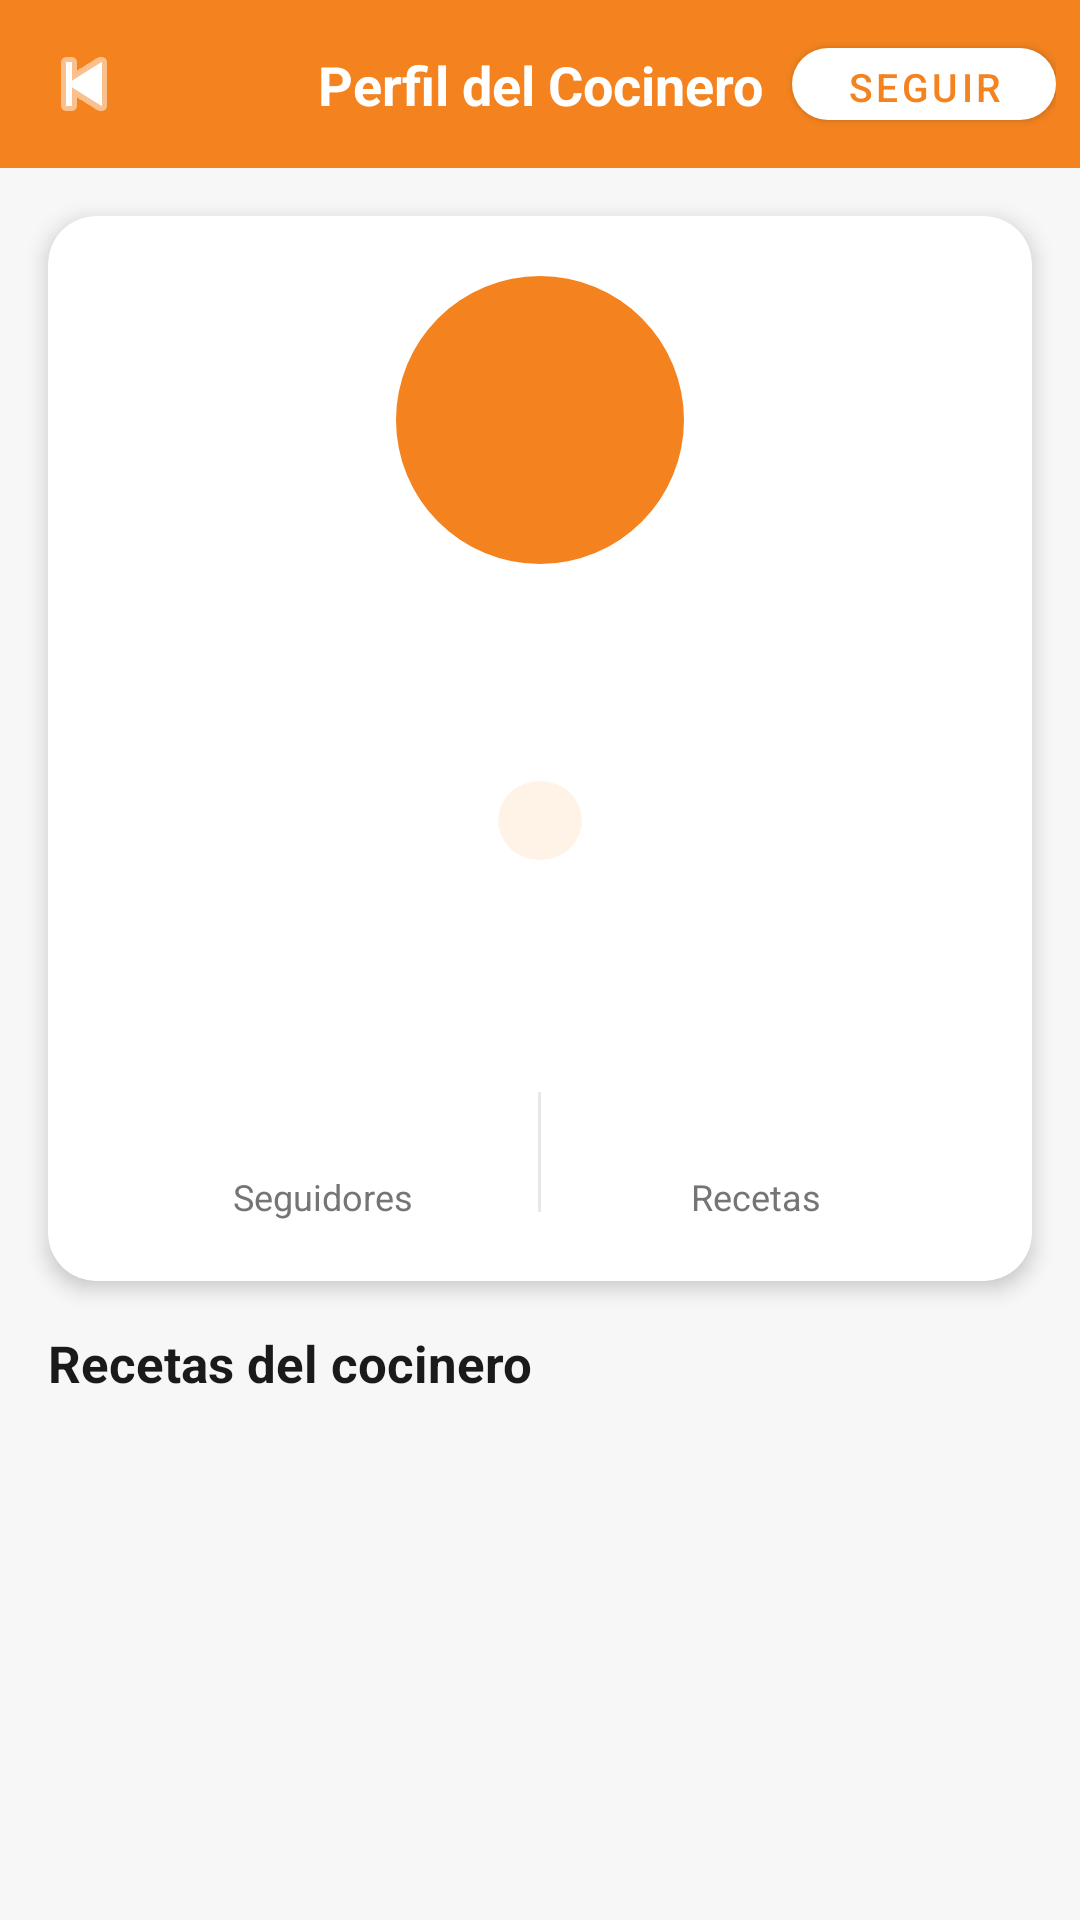

Screen size 1080x1920. Icon name, then its box in pixels as (x1, y1, x2, y2):
previous: (61, 57, 107, 111)
